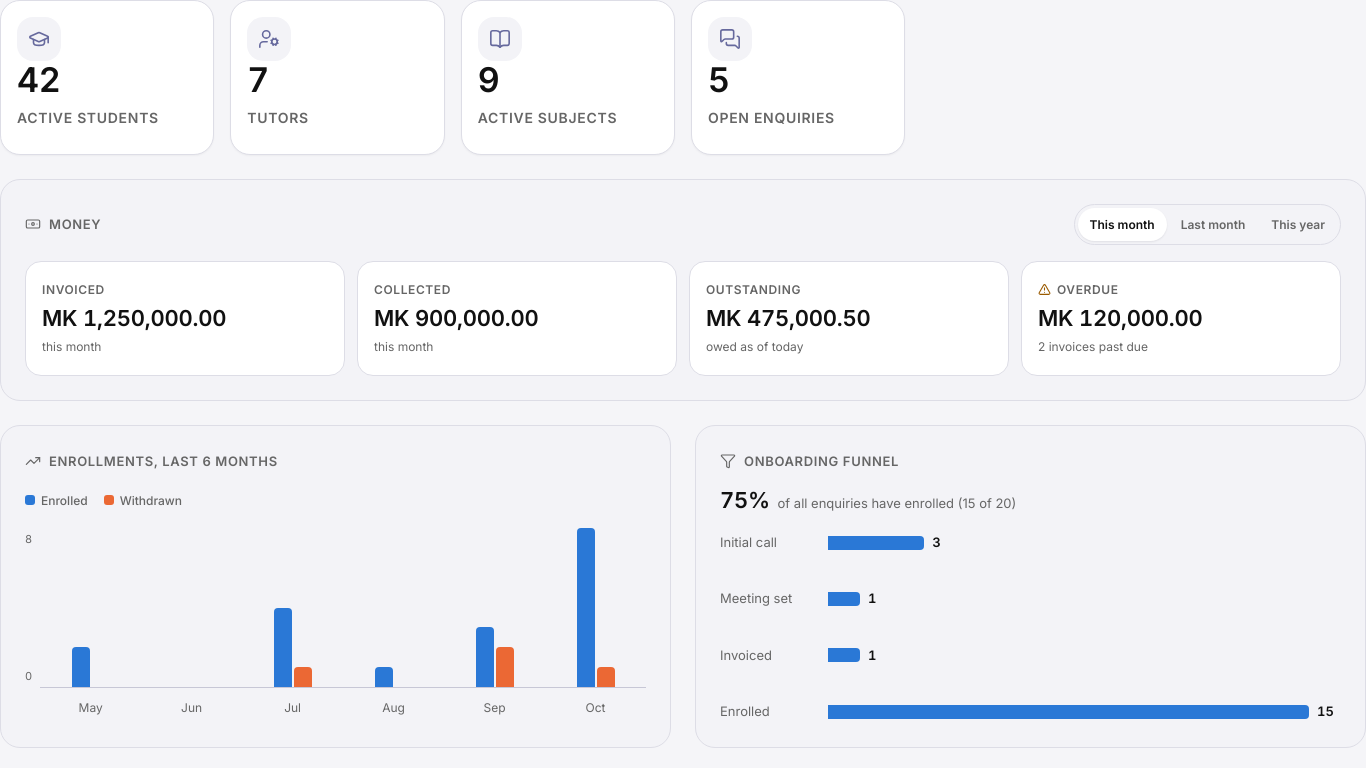
Test: DashboardPage › for an Owner › asks the server again when the period changes, keeping the old figures up meanwhile
Expected: the text "MK 1,250,000.00" is shown, [42,305,226,331]
Click the button "This year" at (1298, 224), box [1259,208,1337,241]
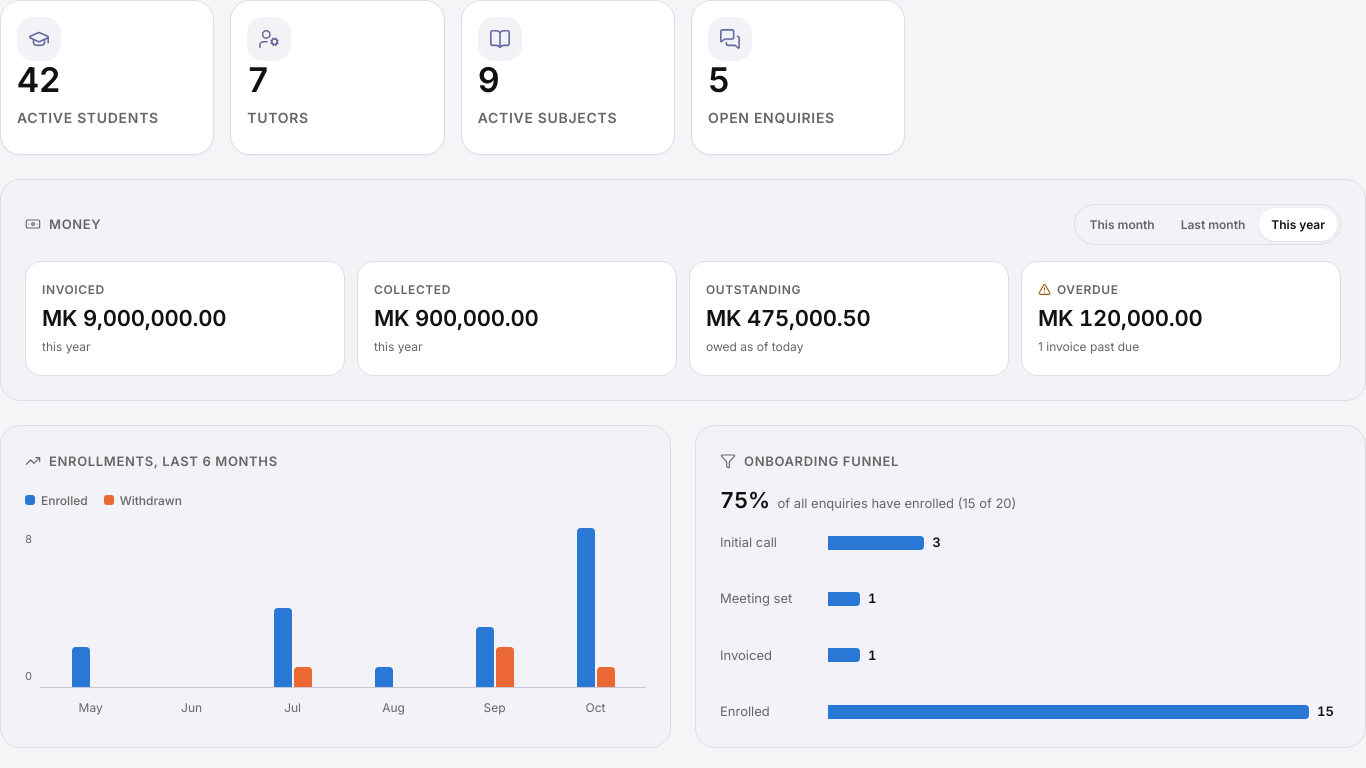
Expected: the text "this year" is shown 2 times, [42,339,90,354]; [374,339,422,354]
Result: the text "MK 9,000,000.00" is shown at [42,305,226,331]
Result: the text "1 invoice past due" is shown at [1038,339,1139,354]
